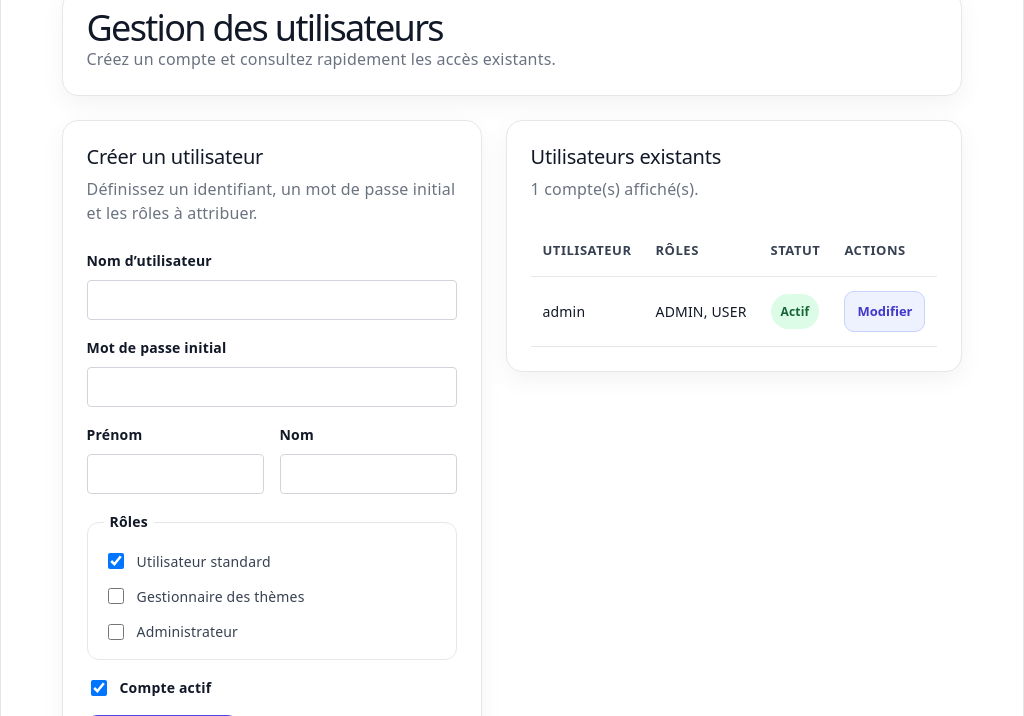
Scenario: UserAdminPage › shows an error when resetting a password fails
Expected: the cell "admin" is shown, [530,276,644,347]
Step 1. Click the button named "Modifier admin" → click(885, 312), box [844,291,926,332]
(page scrolled)
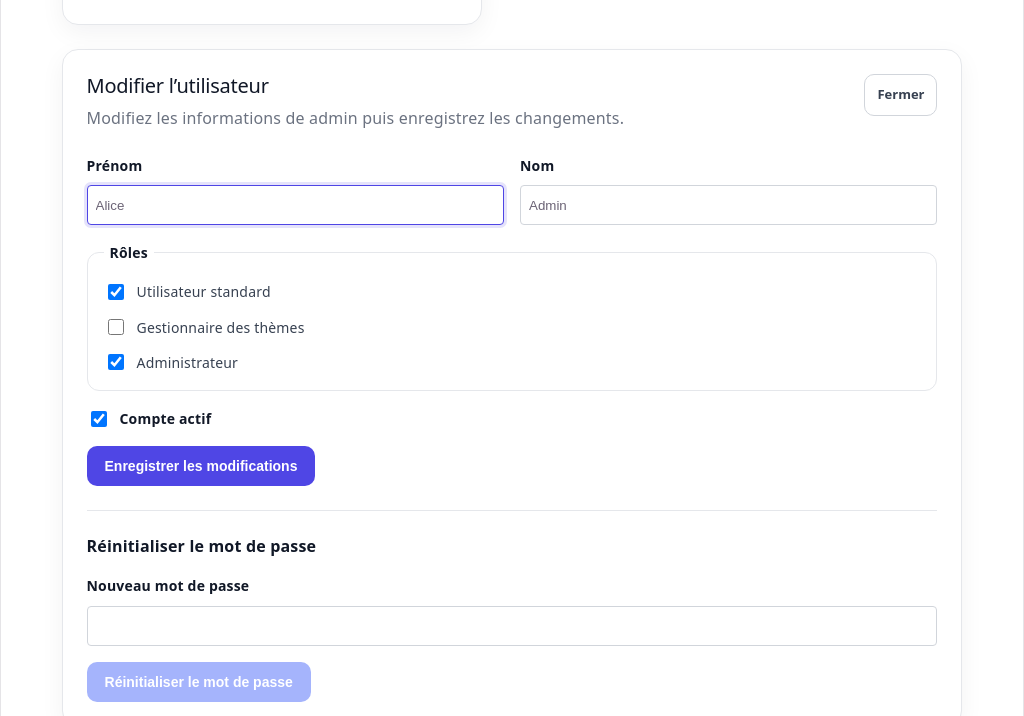
Step 2. Type "reset123!" into the password field labelled "Nouveau mot de passe" → (512, 626), box [86,606,938,646]
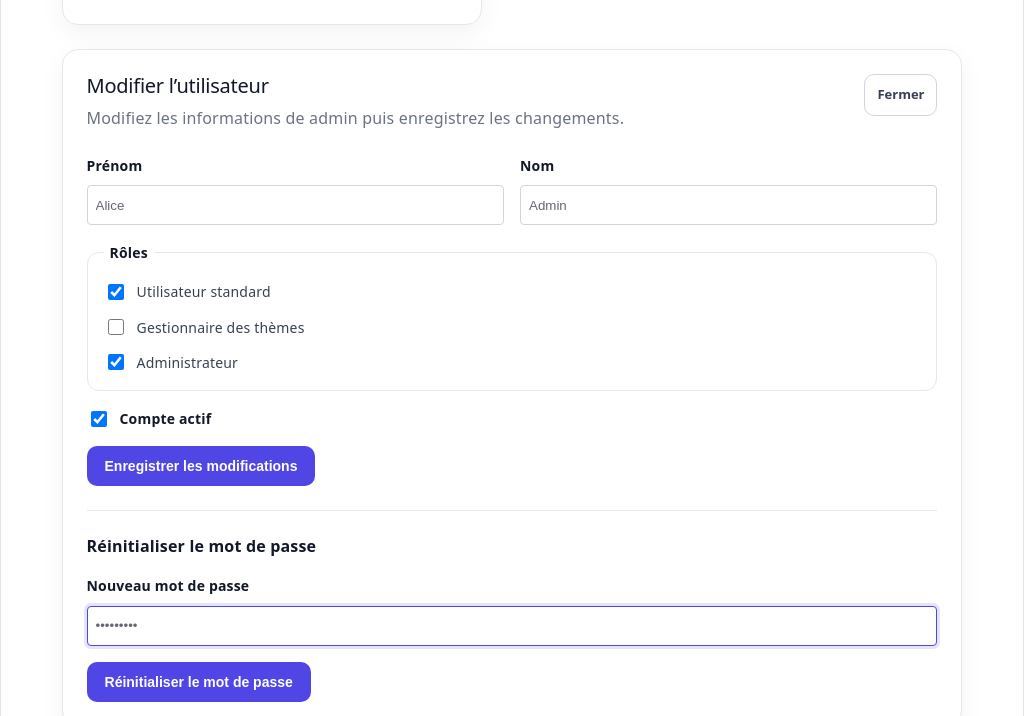
Step 3. Click the button "Réinitialiser le mot de passe" → click(199, 682), box [86,662,311,702]
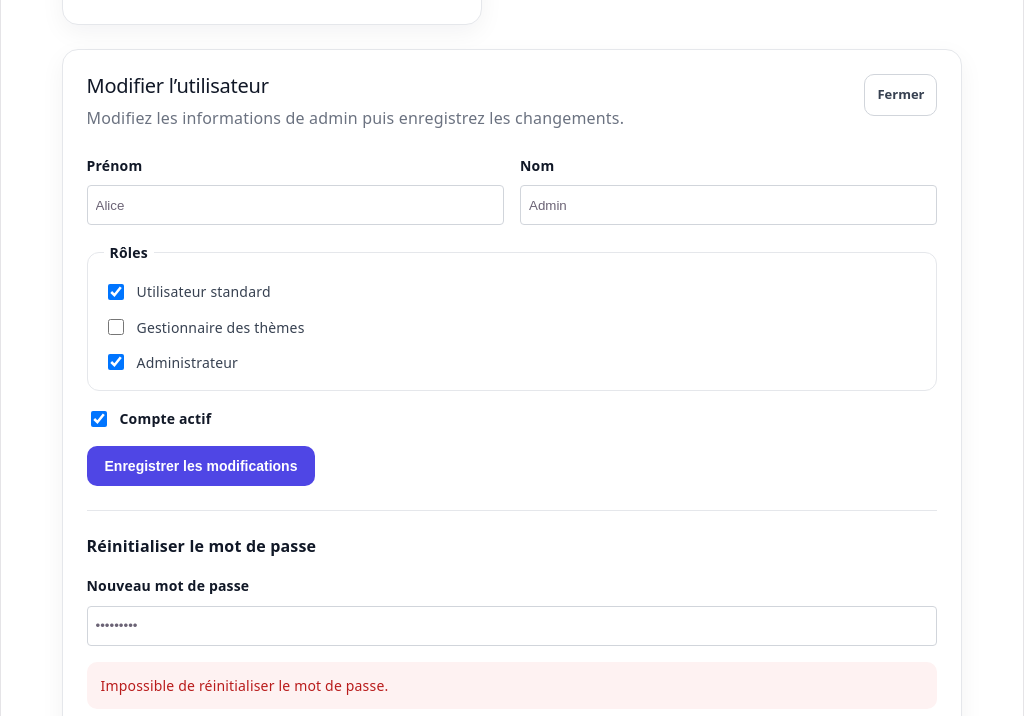
Now the message reads "Impossible de réinitialiser le mot de passe.", box [100,676,388,695]
